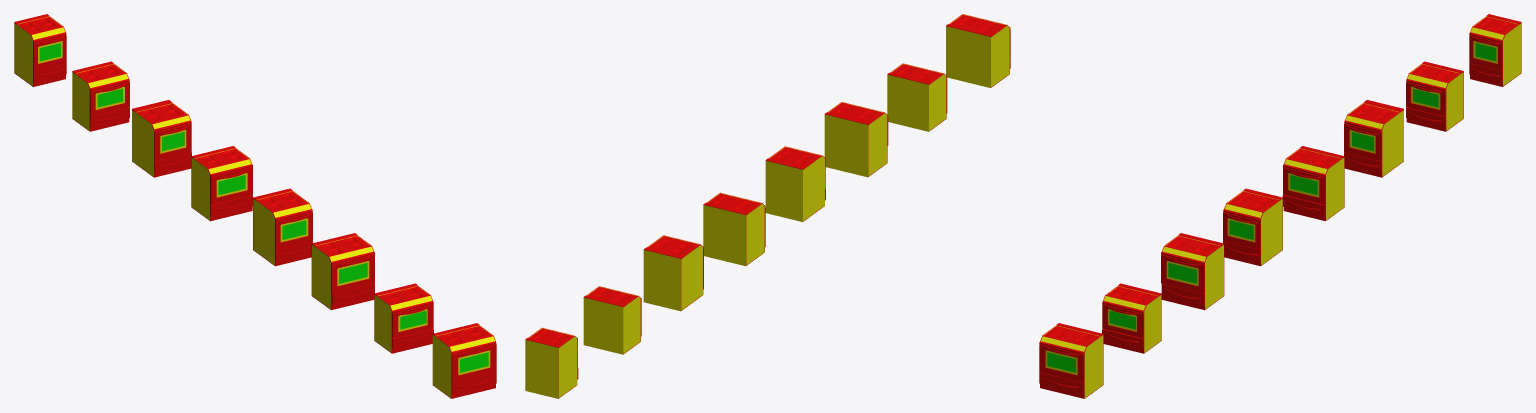
The model's file is ovens_grp.fbx.
The picture shows the model from 3 angles, left to right: view 1: azimuth 30°, elevation 25°; view 2: azimuth 150°, elevation 25°; view 3: azimuth 330°, elevation 25°; orthographic projection.
Parts seen in each view (by area): view 1: oven_FP11, oven_FP7, oven_FP5, oven_FP1, oven_FP10, oven_FP2, oven_FP22, oven_FP14, oven_FP1_door, oven_FP5_door, oven_FP10_door, oven_FP7_door (+11 smaller); view 2: oven_FP5, oven_FP1, oven_FP11, oven_FP7, oven_FP10, oven_FP2, oven_FP14, oven_FP22; view 3: oven_FP11, oven_FP7, oven_FP5, oven_FP1, oven_FP10, oven_FP2, oven_FP22, oven_FP14, oven_FP1_door, oven_FP5_door, oven_FP10_door, oven_FP7_door (+11 smaller).
Part boxes in pixels (x1=…): oven_FP11: x1=132, y1=100, x2=191, y2=177; oven_FP7: x1=253, y1=188, x2=312, y2=266; oven_FP5: x1=311, y1=233, x2=374, y2=310; oven_FP1: x1=432, y1=323, x2=495, y2=398; oven_FP10: x1=191, y1=146, x2=252, y2=221; oven_FP2: x1=374, y1=283, x2=432, y2=353; oven_FP22: x1=14, y1=14, x2=65, y2=86; oven_FP14: x1=72, y1=61, x2=129, y2=131; oven_FP1_door: x1=451, y1=342, x2=496, y2=382; oven_FP5_door: x1=331, y1=252, x2=374, y2=293; oven_FP10_door: x1=210, y1=164, x2=252, y2=204; oven_FP7_door: x1=275, y1=209, x2=312, y2=249; oven_FP5: x1=824, y1=102, x2=887, y2=177; oven_FP1: x1=946, y1=14, x2=1009, y2=87; oven_FP11: x1=643, y1=235, x2=703, y2=311; oven_FP7: x1=765, y1=146, x2=824, y2=221; oven_FP10: x1=703, y1=192, x2=764, y2=266; oven_FP2: x1=887, y1=63, x2=946, y2=131; oven_FP14: x1=583, y1=286, x2=640, y2=354; oven_FP22: x1=525, y1=327, x2=577, y2=398; oven_FP11: x1=1344, y1=100, x2=1403, y2=177; oven_FP7: x1=1224, y1=188, x2=1282, y2=266; oven_FP5: x1=1161, y1=233, x2=1224, y2=310; oven_FP1: x1=1040, y1=323, x2=1103, y2=398; oven_FP10: x1=1283, y1=146, x2=1344, y2=221; oven_FP2: x1=1103, y1=283, x2=1161, y2=353; oven_FP22: x1=1470, y1=14, x2=1521, y2=86; oven_FP14: x1=1406, y1=61, x2=1463, y2=131; oven_FP1_door: x1=1039, y1=342, x2=1084, y2=382; oven_FP5_door: x1=1161, y1=252, x2=1204, y2=293; oven_FP10_door: x1=1283, y1=164, x2=1325, y2=204; oven_FP7_door: x1=1223, y1=209, x2=1260, y2=249.
Size of the model in its own units: 85 by 95.76 by 1473.
